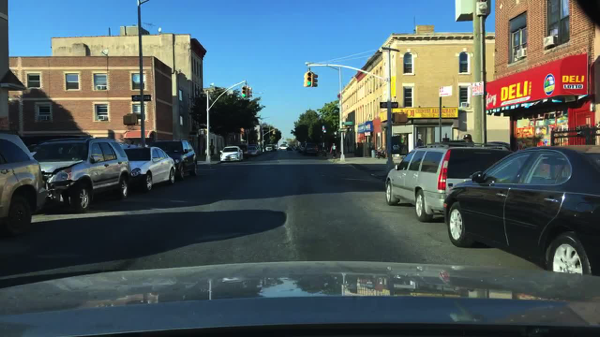car: (442, 143, 597, 278), (383, 140, 517, 224), (31, 137, 132, 215), (2, 132, 50, 242), (123, 146, 178, 191), (150, 139, 198, 182), (220, 145, 244, 162), (305, 144, 319, 156), (244, 147, 259, 156), (253, 146, 263, 153), (296, 143, 302, 153), (267, 144, 274, 152), (286, 145, 292, 151)
person: (330, 143, 338, 160)
traffic light: (123, 112, 139, 125), (313, 70, 319, 87), (306, 72, 313, 86), (198, 128, 207, 136)
traffic sign: (131, 93, 152, 101), (438, 86, 454, 96), (380, 101, 399, 109), (336, 127, 348, 132), (341, 121, 353, 126)
